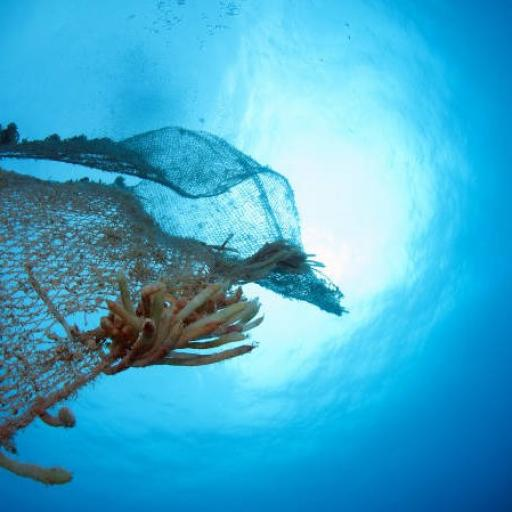net: (0, 117, 348, 484)
